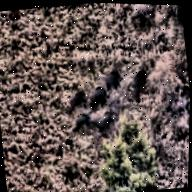boar: (70, 106, 96, 139), (103, 63, 127, 95), (127, 66, 156, 92), (86, 84, 112, 113), (94, 110, 124, 135), (62, 83, 90, 109)
